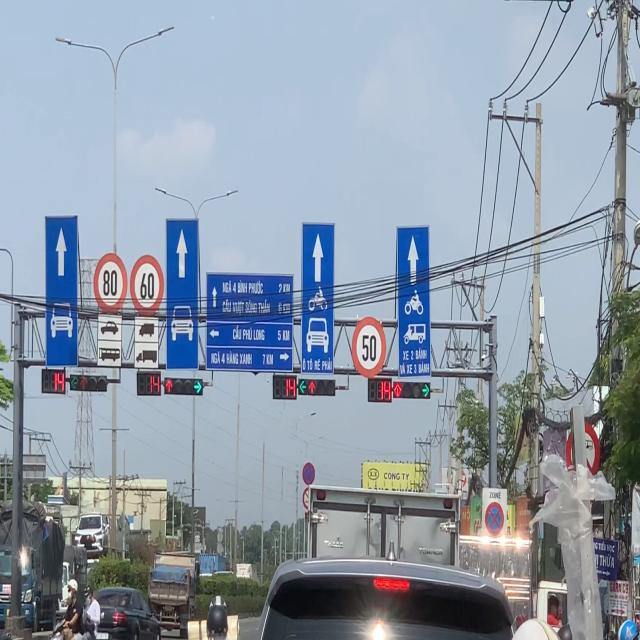Cam dung va do: (485, 502, 504, 536), (302, 462, 315, 486)
Toc do toi da: (93, 252, 128, 314), (130, 254, 164, 316), (352, 316, 386, 378)
